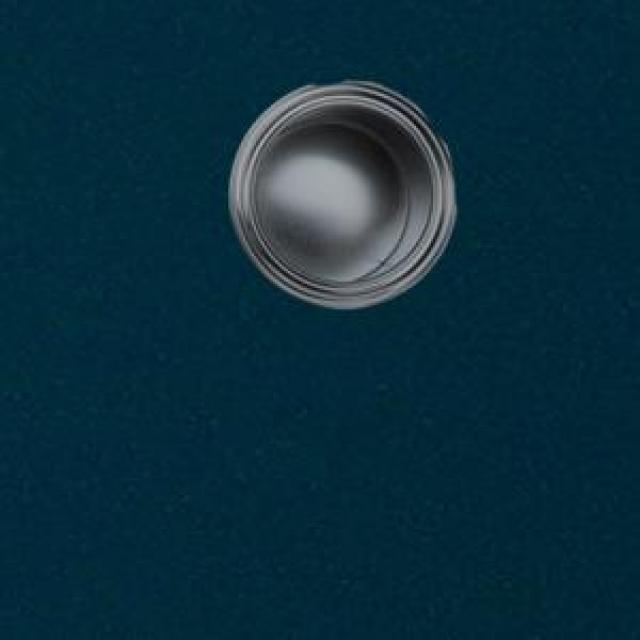Can: (227, 78, 453, 306)
